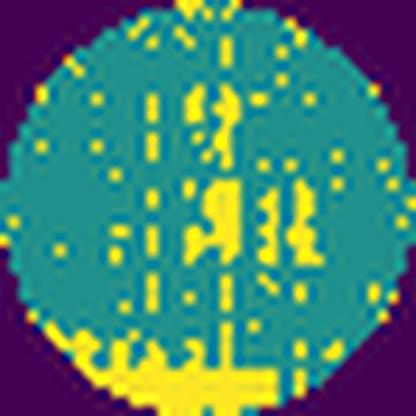Edge-Loc: (24, 311, 283, 416)
